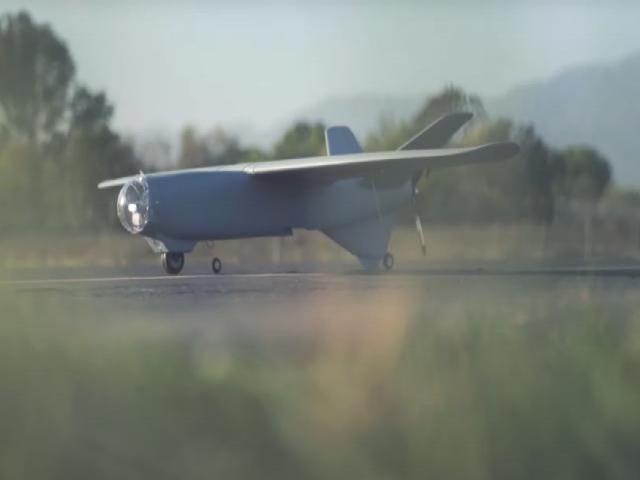iha: (93, 103, 526, 270)
